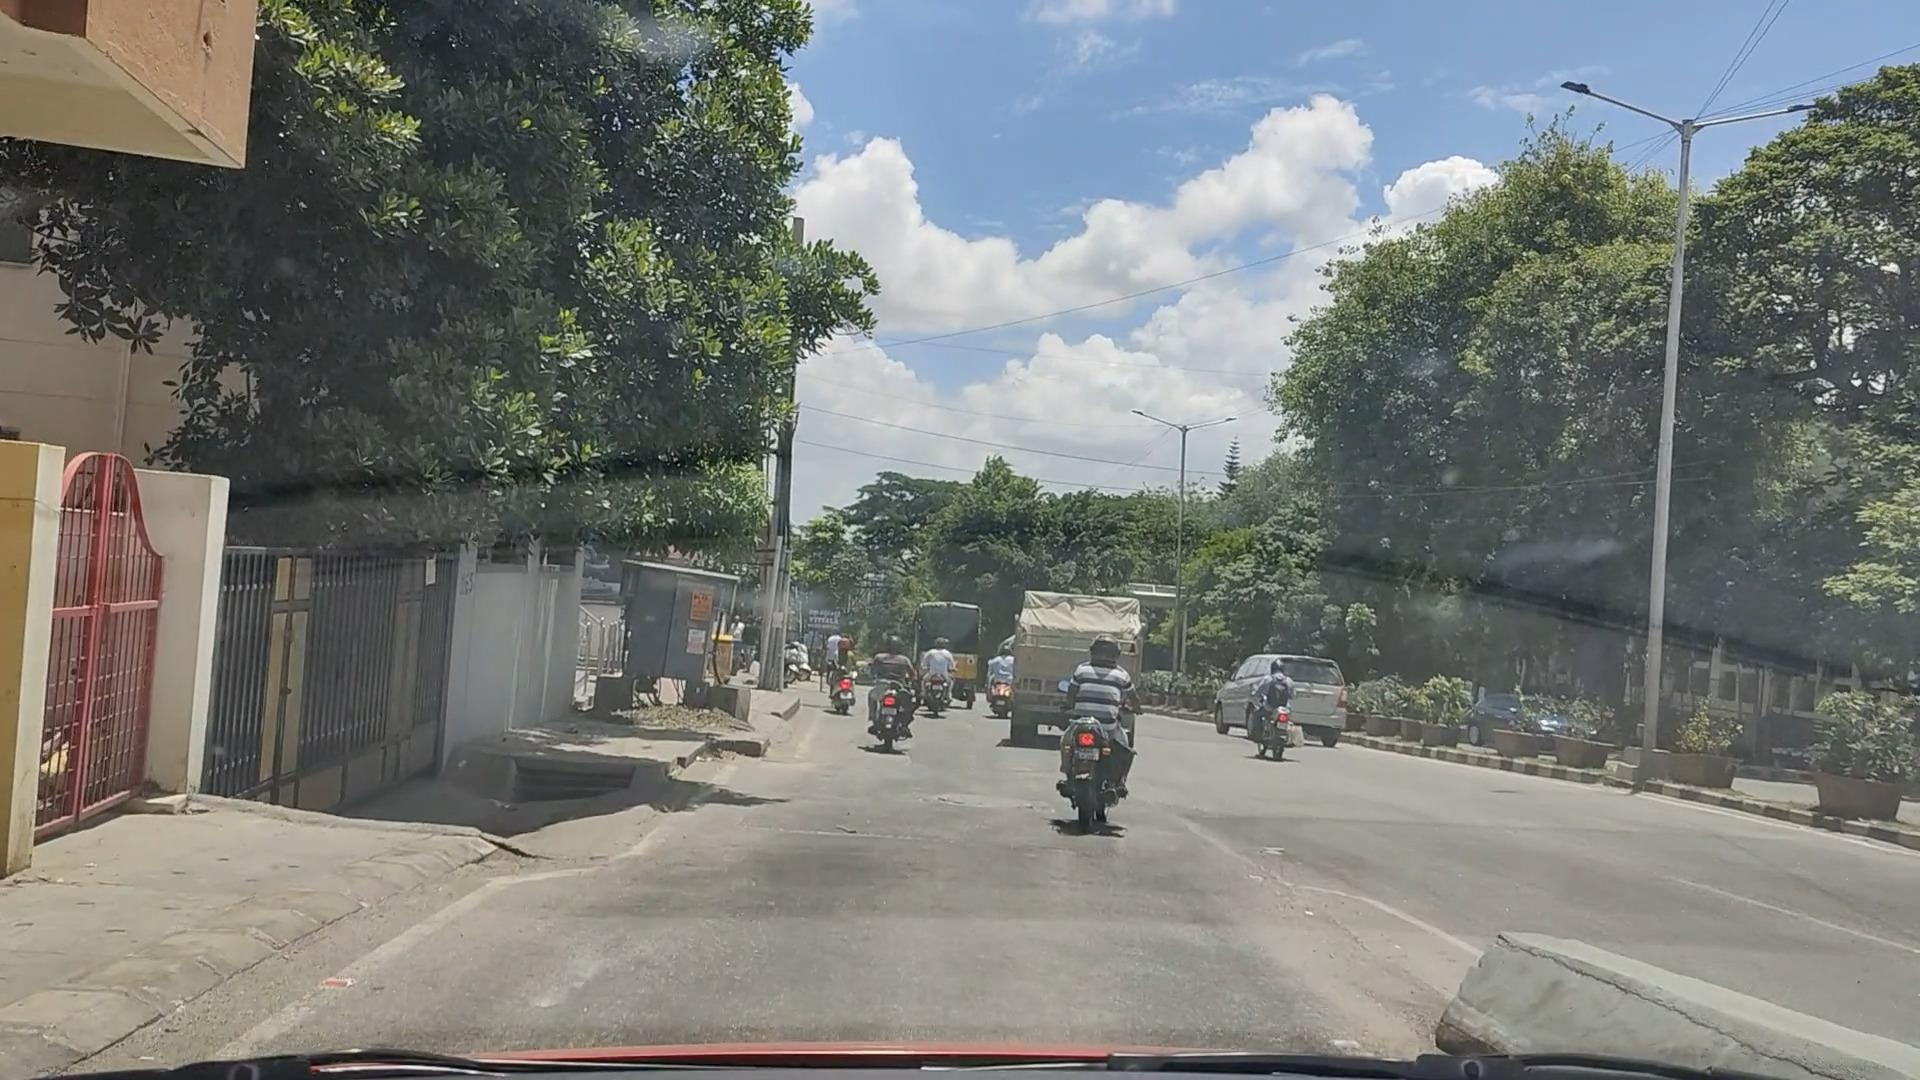HMV: (987, 574, 1151, 748), (908, 588, 990, 716)
